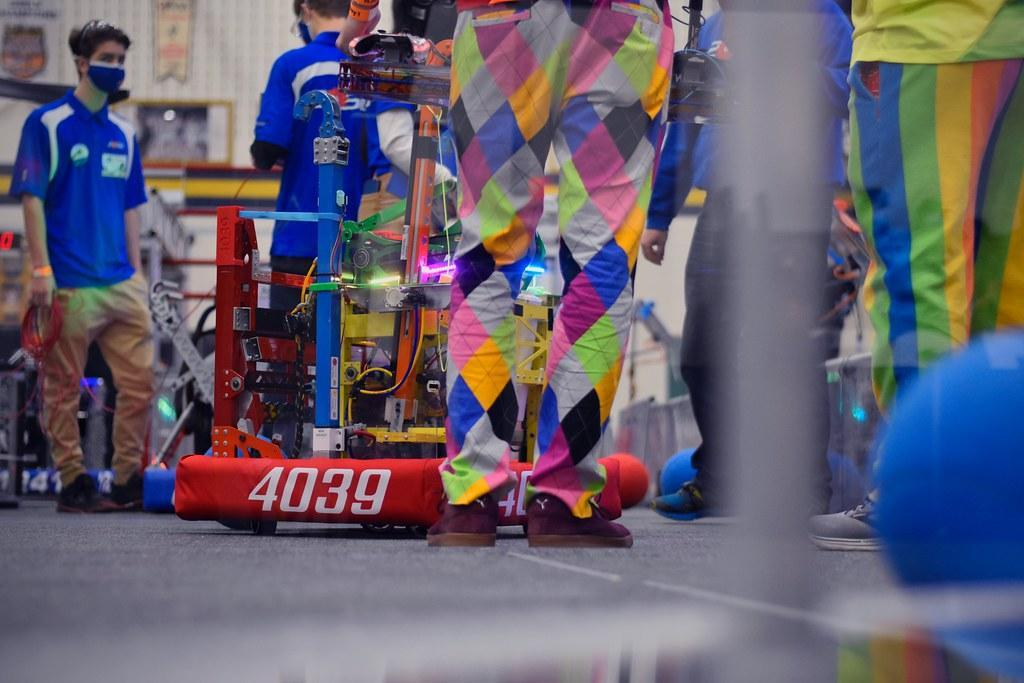robot: (170, 24, 656, 547), (123, 274, 223, 522), (7, 367, 142, 500)
